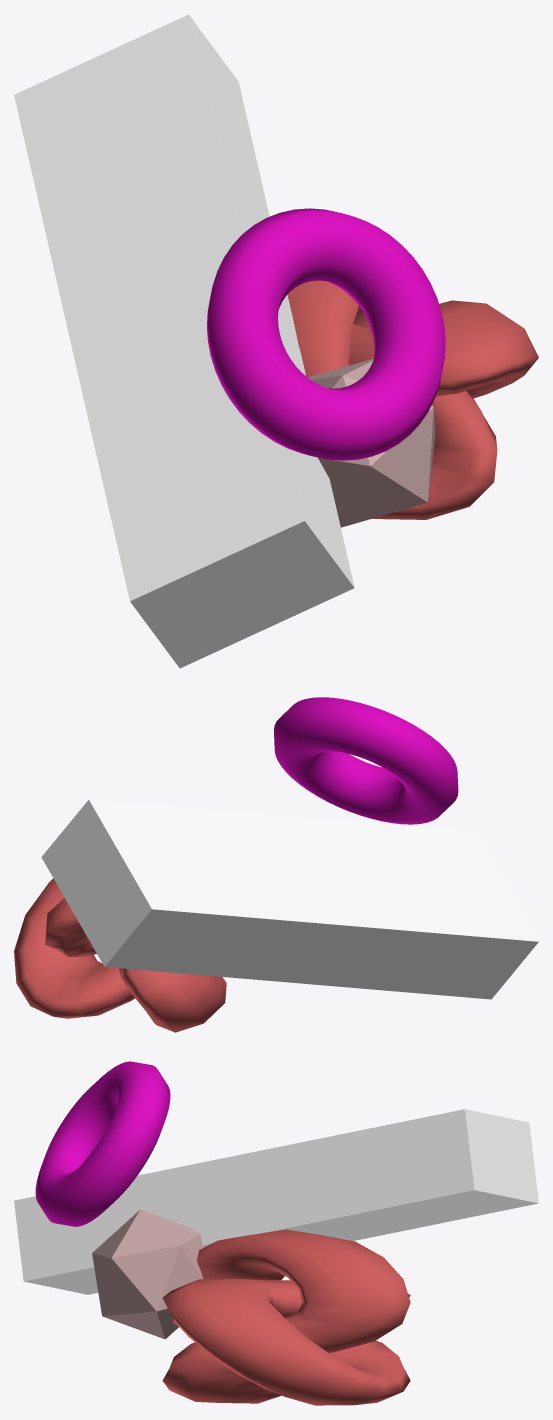
The picture shows the model from 3 angles, top to bottom: view 1: azimuth 30°, elevation 25°; view 2: azimuth 150°, elevation 25°; view 3: azimuth 270°, elevation 25°; orthographic projection. The views are drawn at different scales.
Size of the model in its own units: 6.46 by 4.64 by 7.86.
